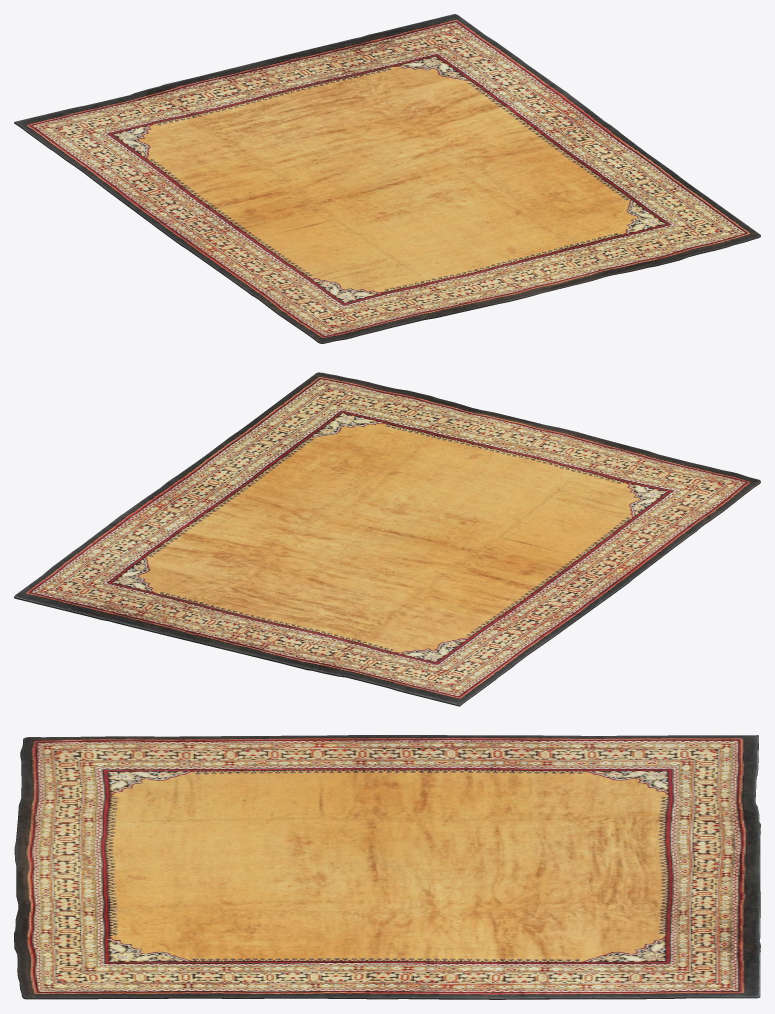
The model's file is obj_irish_donegal_carpet_74f230.glb.
The picture shows the model from 3 angles, top to bottom: view 1: azimuth 30°, elevation 25°; view 2: azimuth 150°, elevation 25°; view 3: azimuth 270°, elevation 25°; orthographic projection. The views are drawn at different scales.
Parts seen in each view (by area): view 1: obj_irish_donegal_carpet_74f230; view 2: obj_irish_donegal_carpet_74f230; view 3: obj_irish_donegal_carpet_74f230.
Part boxes in pixels (x1=…): obj_irish_donegal_carpet_74f230: x1=14, y1=14, x2=760, y2=343; obj_irish_donegal_carpet_74f230: x1=14, y1=372, x2=760, y2=706; obj_irish_donegal_carpet_74f230: x1=14, y1=735, x2=760, y2=999.
Size of the model in its own units: 0.6264 by 0.00234 by 0.75.
1 material, 1 textured.
